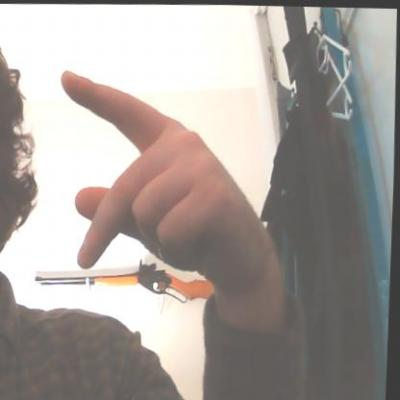hand: (54, 64, 284, 298)
